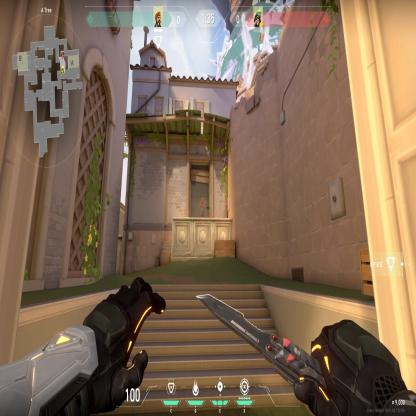enemy: (199, 195, 206, 217)
